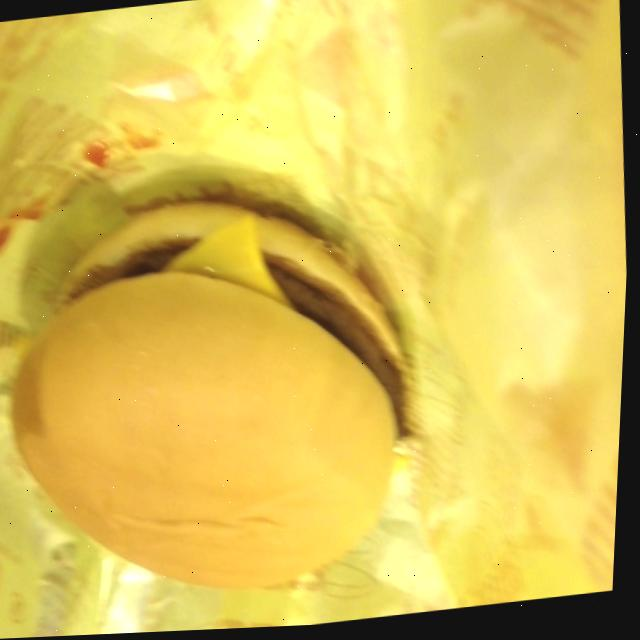汉堡快餐: (0, 175, 452, 631)
